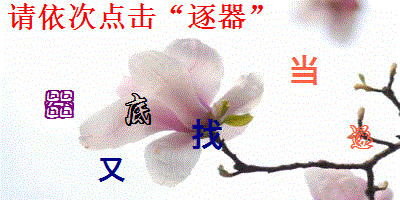text: (189, 117, 224, 152), (123, 91, 153, 127), (43, 88, 76, 120), (289, 54, 319, 86), (98, 155, 127, 184), (348, 123, 374, 151)
